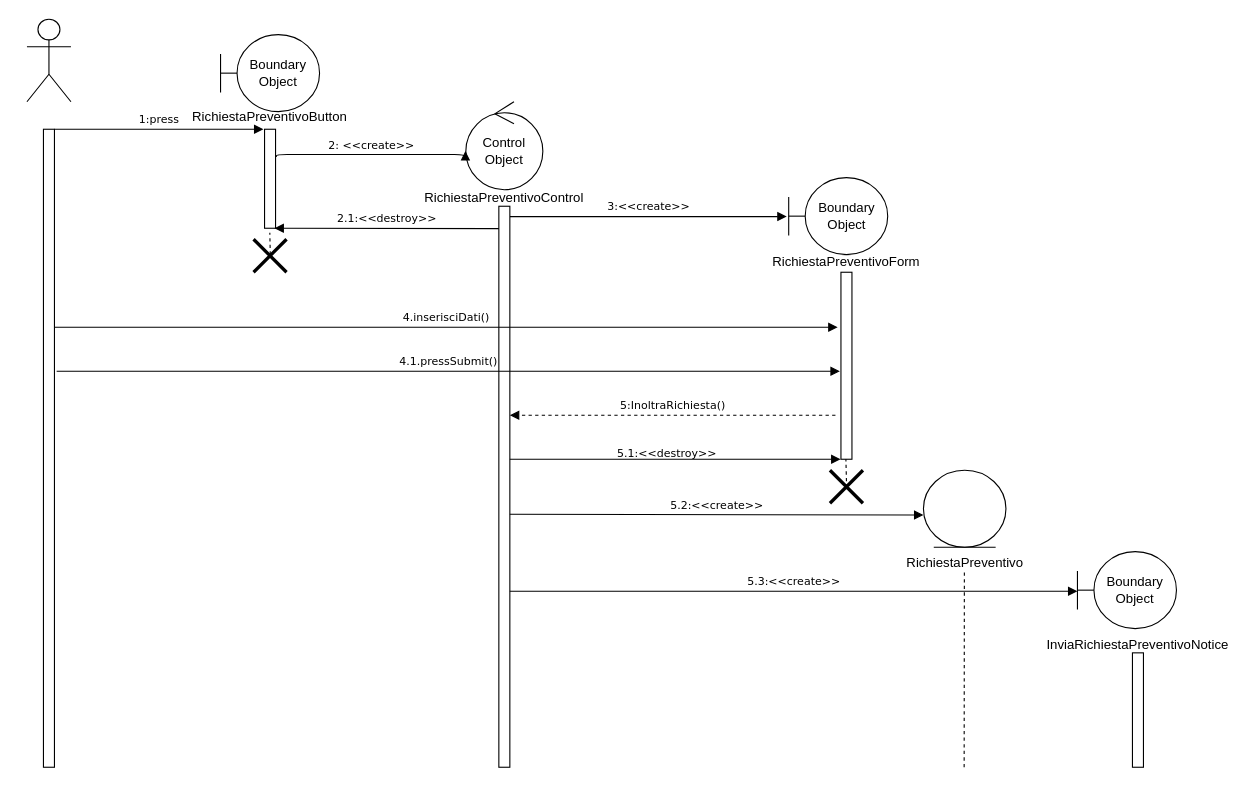
This 1253x788 diagram has some shape labels left out. The box of each missing label's shape, as (x1, y1, x2, y2) in pixels:
CLIENTE: (26, 18, 71, 102)
Entity Object: (922, 469, 1006, 547)
